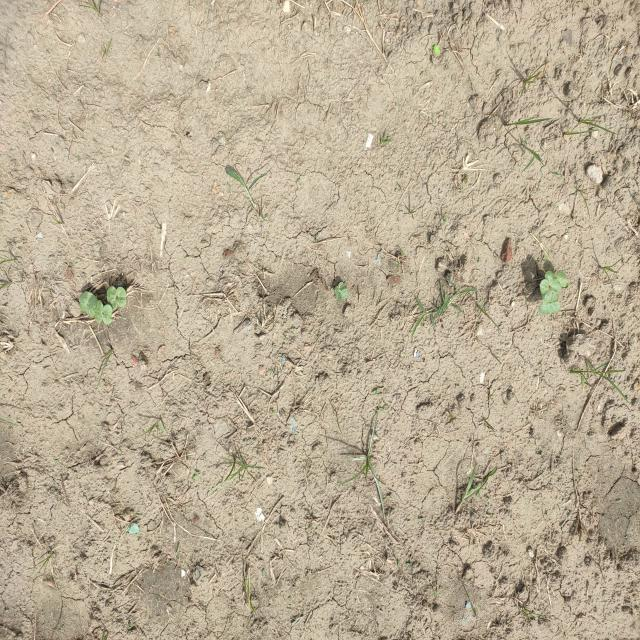seedling_s2: (545, 271, 561, 293), (79, 291, 97, 309), (539, 301, 560, 314), (107, 286, 117, 311), (556, 270, 569, 289), (540, 279, 551, 301), (80, 303, 95, 317), (116, 287, 126, 307), (102, 305, 112, 325), (95, 301, 104, 323), (542, 293, 558, 304), (338, 282, 348, 299), (334, 286, 342, 302)
